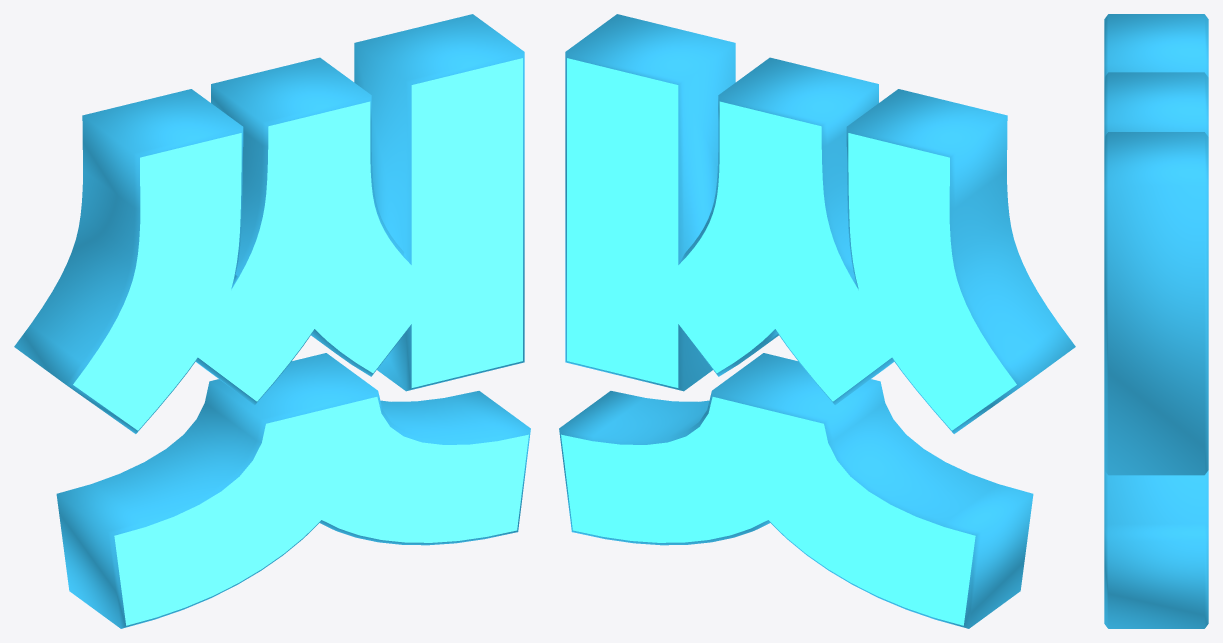
3 views of the same model, side by side, from view 1: azimuth 30°, elevation 25°; view 2: azimuth 150°, elevation 25°; view 3: azimuth 270°, elevation 25° (orthographic). The views are drawn at different scales.
Parts seen in each view (by area): view 1: glyph; view 2: glyph; view 3: glyph.
Part boxes in pixels (x1,y1,x2,y2): glyph: [14, 14, 530, 628]; glyph: [559, 14, 1075, 628]; glyph: [1104, 14, 1208, 628].
Size of the model in its own units: 0.1082 by 0.1064 by 0.0225.
